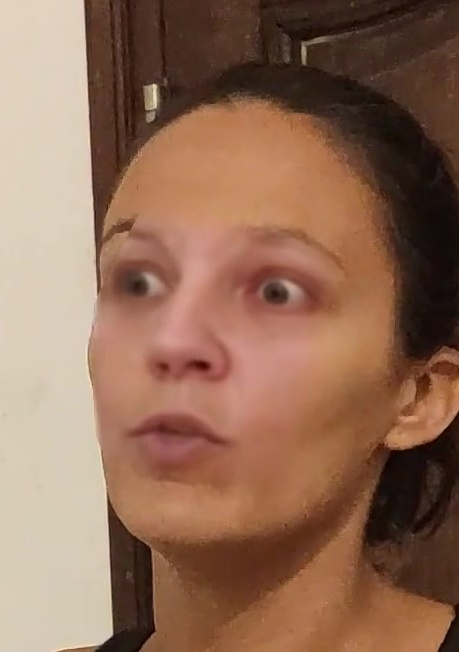eb_f: (93, 205, 359, 323)
